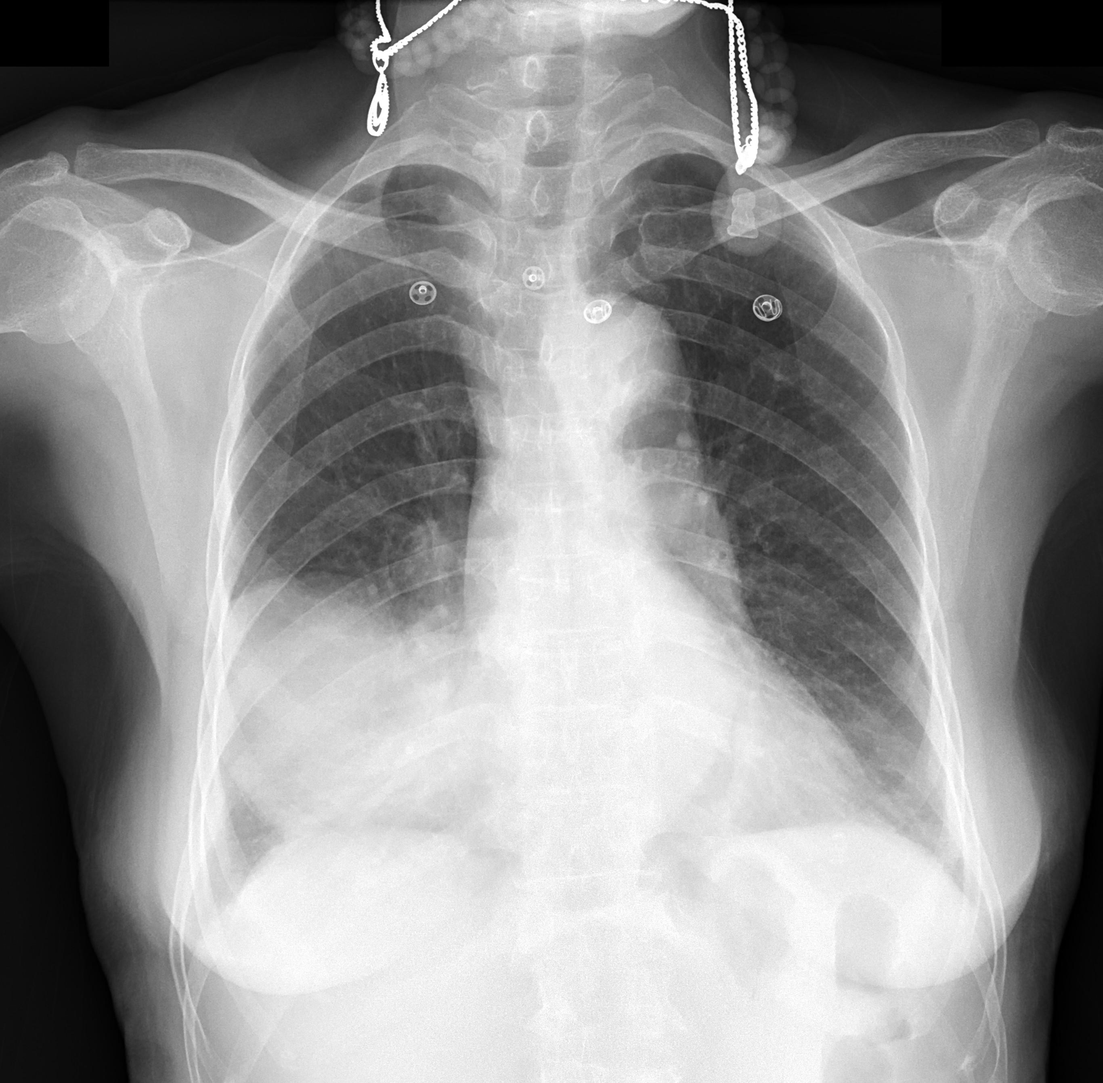Aortic enlargement: (554, 300, 694, 440)
